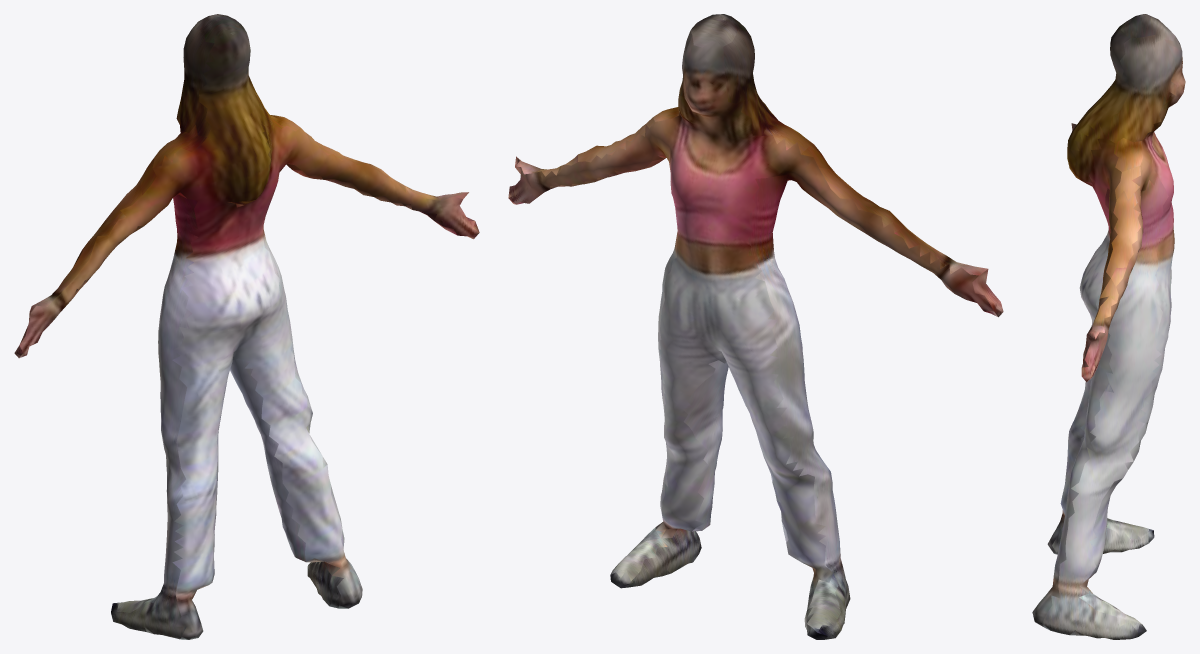
3 views of the same model, side by side, from view 1: azimuth 30°, elevation 25°; view 2: azimuth 150°, elevation 25°; view 3: azimuth 270°, elevation 25° (orthographic). The views are drawn at different scales.
Parts seen in each view (by area): view 1: world; view 2: world; view 3: world.
Part boxes in pixels (<box>): world: <box>14,14,479,639</box>; world: <box>508,14,1003,639</box>; world: <box>1032,14,1185,639</box>.
Bounding box in the file's own units: 0.8146 × 0.964 × 0.2325.
Materials: 1 (1 with a texture image).
